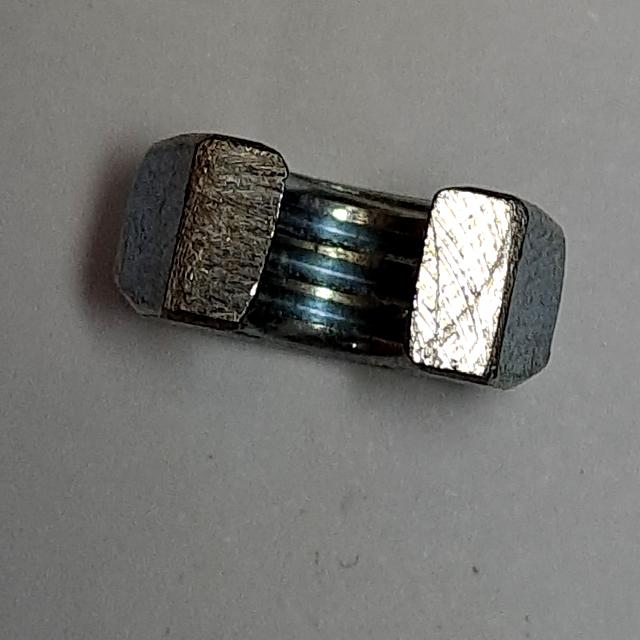Side-Fracture: (100, 115, 586, 414)
